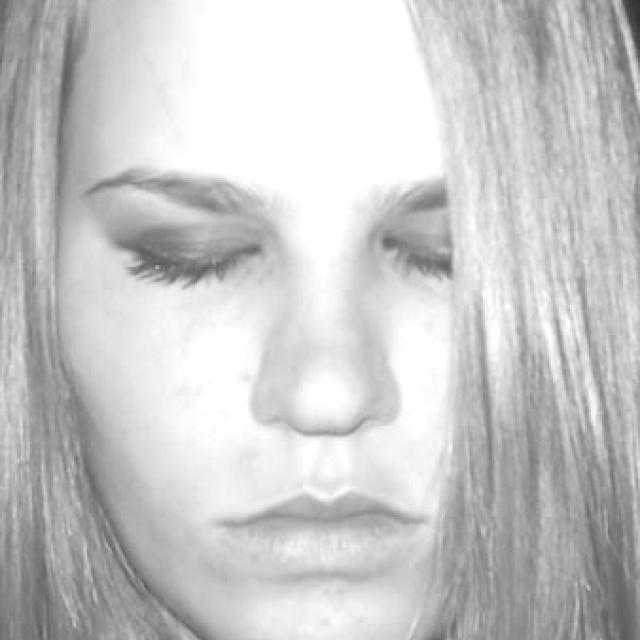real: (19, 0, 598, 637), (101, 188, 557, 310)
